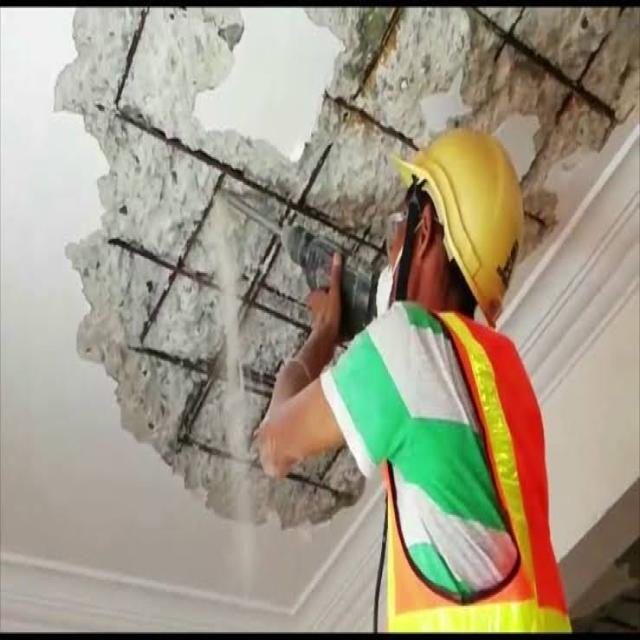Spalling: (63, 9, 630, 530)
